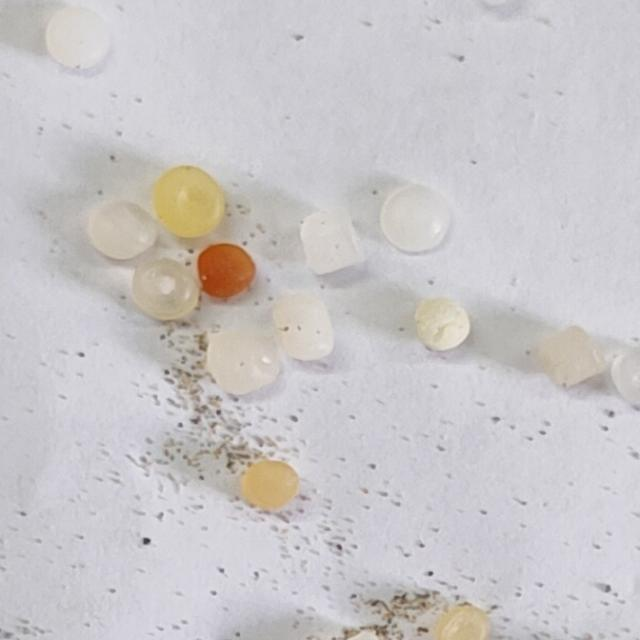beads: (138, 151, 239, 252), (371, 173, 461, 263), (77, 186, 164, 271), (125, 251, 206, 329), (533, 319, 610, 394), (270, 287, 340, 368), (234, 450, 307, 520), (42, 4, 112, 71), (414, 295, 474, 354), (198, 245, 255, 298), (435, 606, 491, 640), (612, 348, 640, 406)
fragments: (294, 203, 365, 278), (209, 330, 279, 395)
